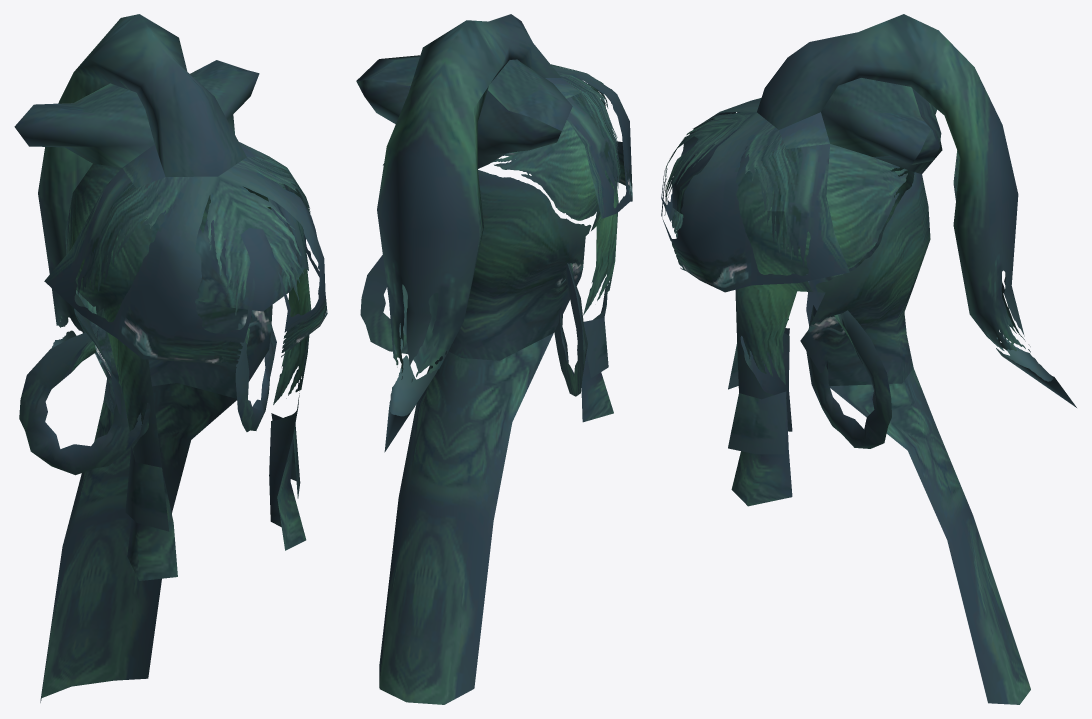
File: f_hair02.obj
3 views of the same model, side by side, from view 1: azimuth 30°, elevation 25°; view 2: azimuth 150°, elevation 25°; view 3: azimuth 270°, elevation 25° (orthographic). The views are drawn at different scales.
Visible parts, largest first — view 1: ____________03_0; view 2: ____________03_0; view 3: ____________03_0.
Part boxes in pixels (box(x1,y1,x2,y2)): ____________03_0: box(14, 14, 327, 702); ____________03_0: box(356, 14, 632, 704); ____________03_0: box(661, 14, 1076, 704).
Size of the model in its own units: 24.75 by 67.53 by 37.72.
